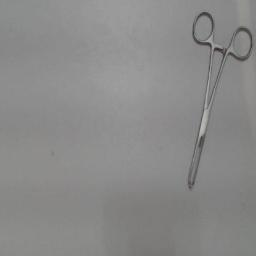Allis Tissue Forceps: (183, 7, 255, 195)
